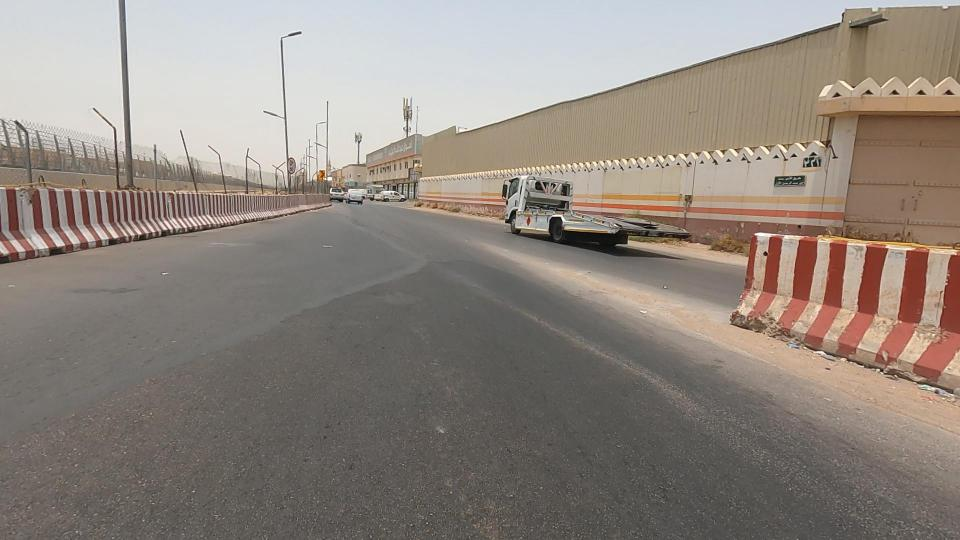CONSTRUCTION_ROAD: (0, 90, 286, 278), (149, 127, 397, 268)
